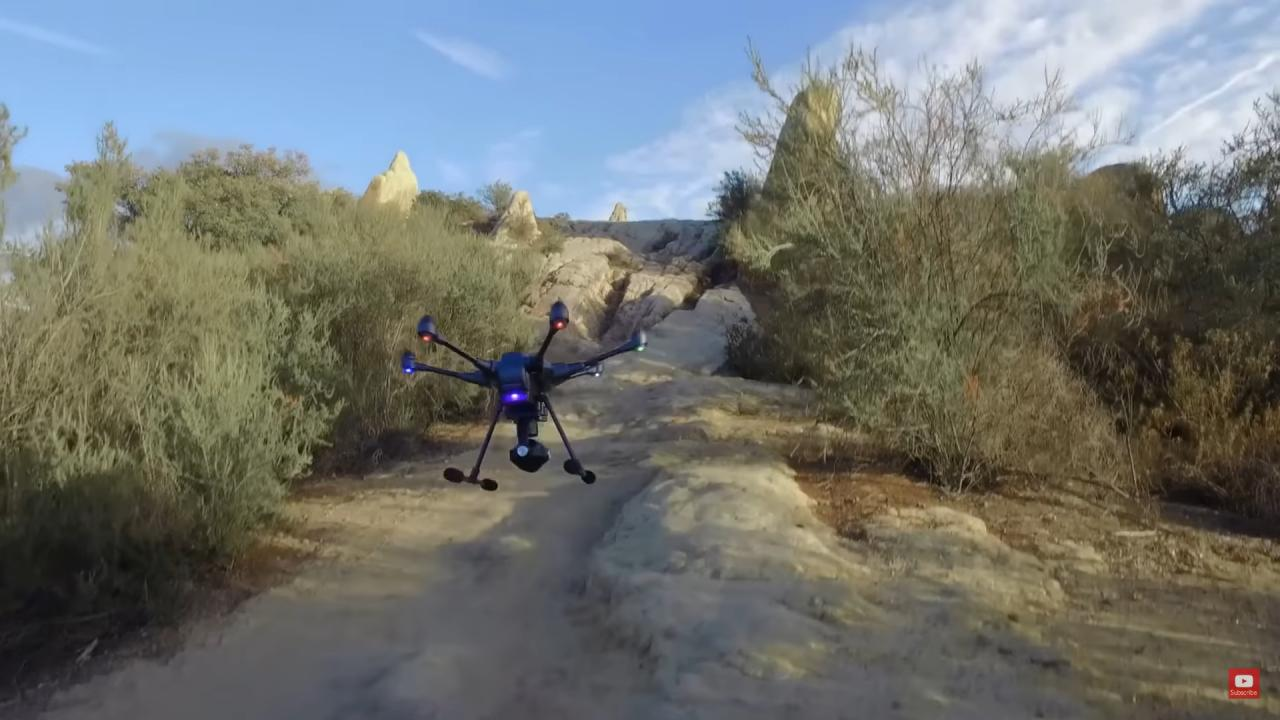Drone: (379, 286, 667, 504)
